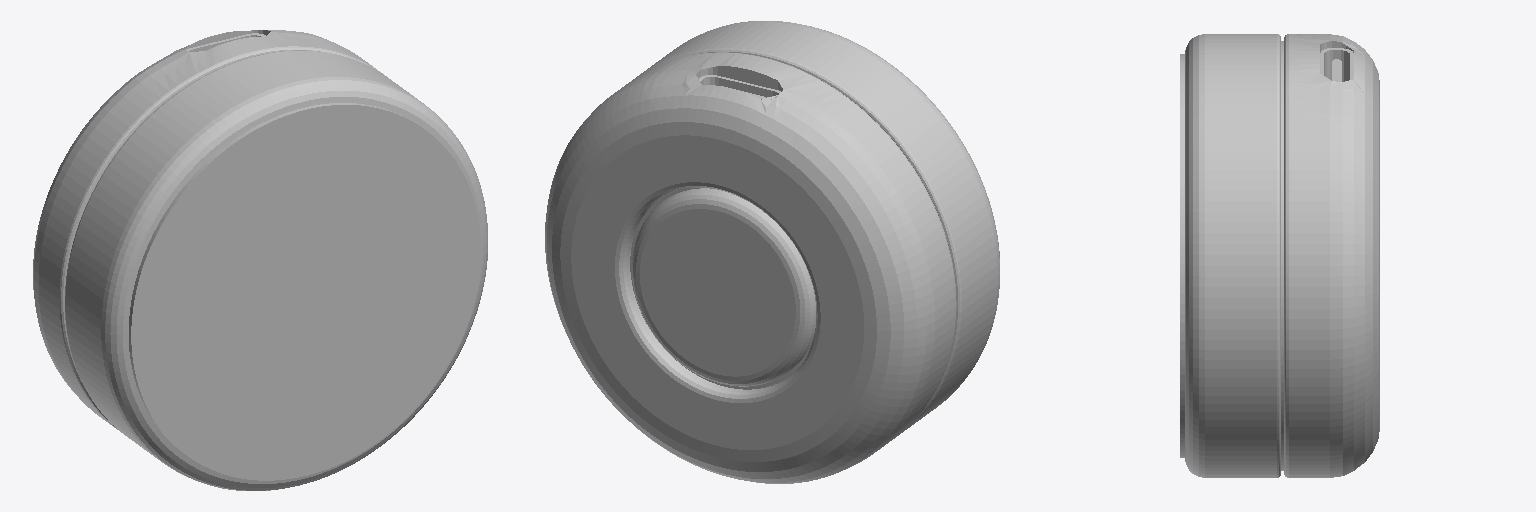
The model's file is lodestar_puck.obj.
3 views of the same model, side by side, from view 1: azimuth 30°, elevation 25°; view 2: azimuth 150°, elevation 25°; view 3: azimuth 270°, elevation 25° (orthographic).
Visible parts, largest first — view 1: Puck; view 2: Puck; view 3: Puck.
Part boxes in pixels (bbox=[...]): Puck: bbox=[33, 30, 487, 490]; Puck: bbox=[545, 21, 999, 483]; Puck: bbox=[1180, 34, 1379, 477].
Size of the model in its own units: 0.042 by 0.042 by 0.019.